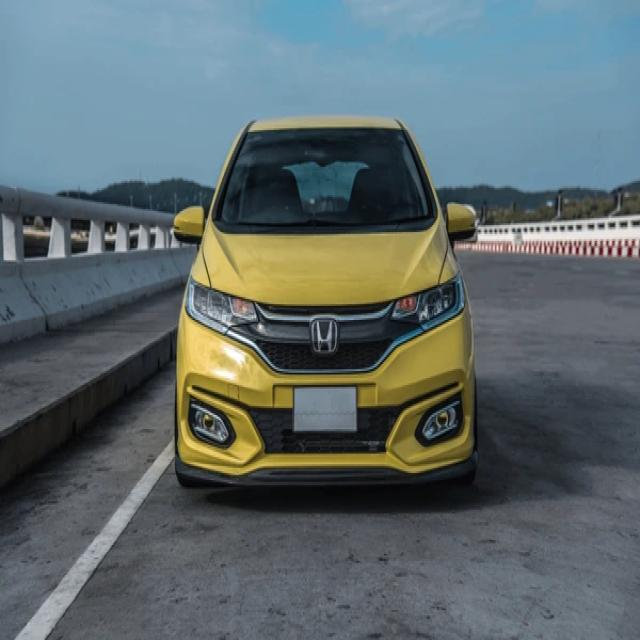honda: (304, 313, 341, 359)
